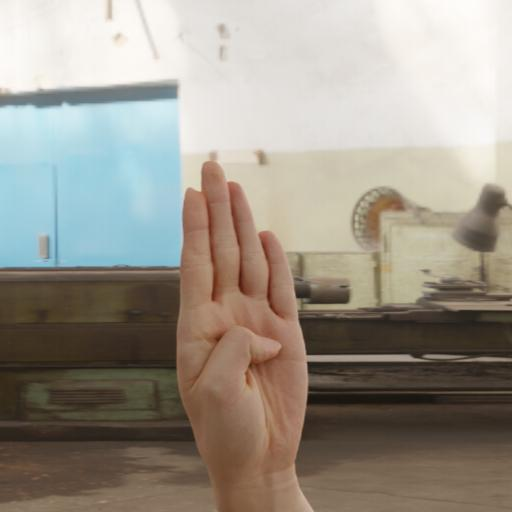B: (178, 156, 310, 462)
